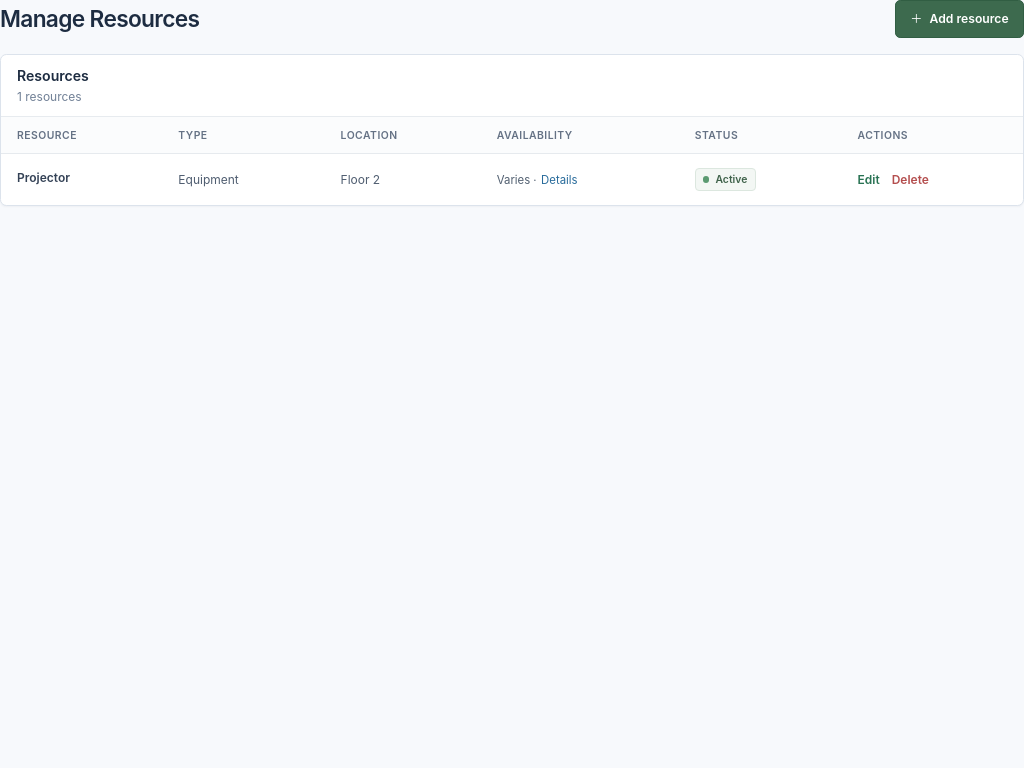
Test: AdminResourcesPage › shows a progressive-disclosure weekly schedule for variable hours
Expected: the text "Varies ·" is shown, [497, 173, 537, 188]
Click the button "Details": coordinates (559, 180) [541, 173, 578, 188]
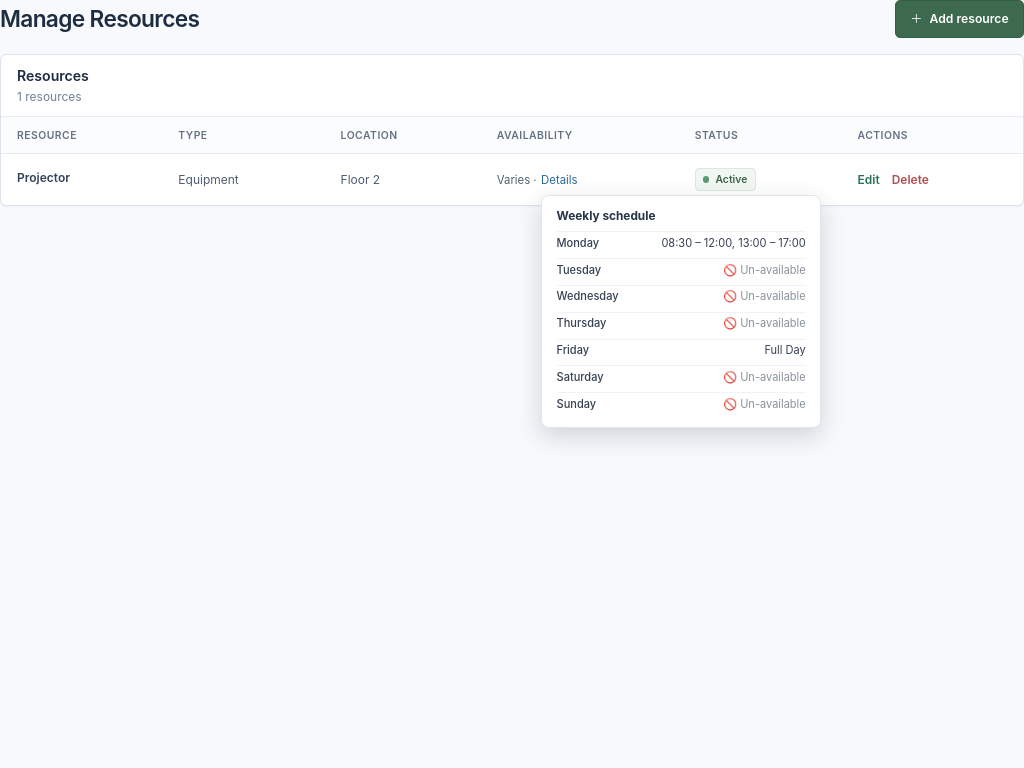
Expected: the dialog named "Weekly availability details" shows "Monday", [556, 236, 599, 250]
Expected: the dialog named "Weekly availability details" shows "08:30 – 12:00, 13:00 – 17:00", [661, 236, 806, 250]
Expected: the dialog named "Weekly availability details" shows "🚫 Un-available", [723, 263, 806, 277]
